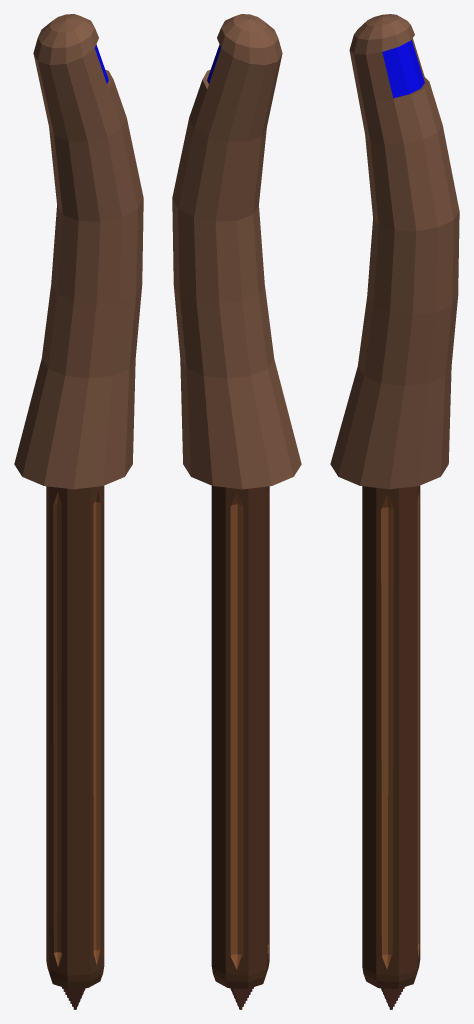
File: Wand 544.glb
The picture shows the model from 3 angles, left to right: view 1: azimuth 30°, elevation 25°; view 2: azimuth 150°, elevation 25°; view 3: azimuth 330°, elevation 25°; orthographic projection.
Visible parts, largest first — view 1: GeneratedWand; view 2: GeneratedWand; view 3: GeneratedWand.
Boxes of the visible parts, left/top/right/bottom form: GeneratedWand: left=14, top=14, right=143, bottom=1009; GeneratedWand: left=172, top=14, right=301, bottom=1009; GeneratedWand: left=330, top=14, right=459, bottom=1009.
Bounding box in the file's own units: 0.0644 × 0.5274 × 0.0572.
